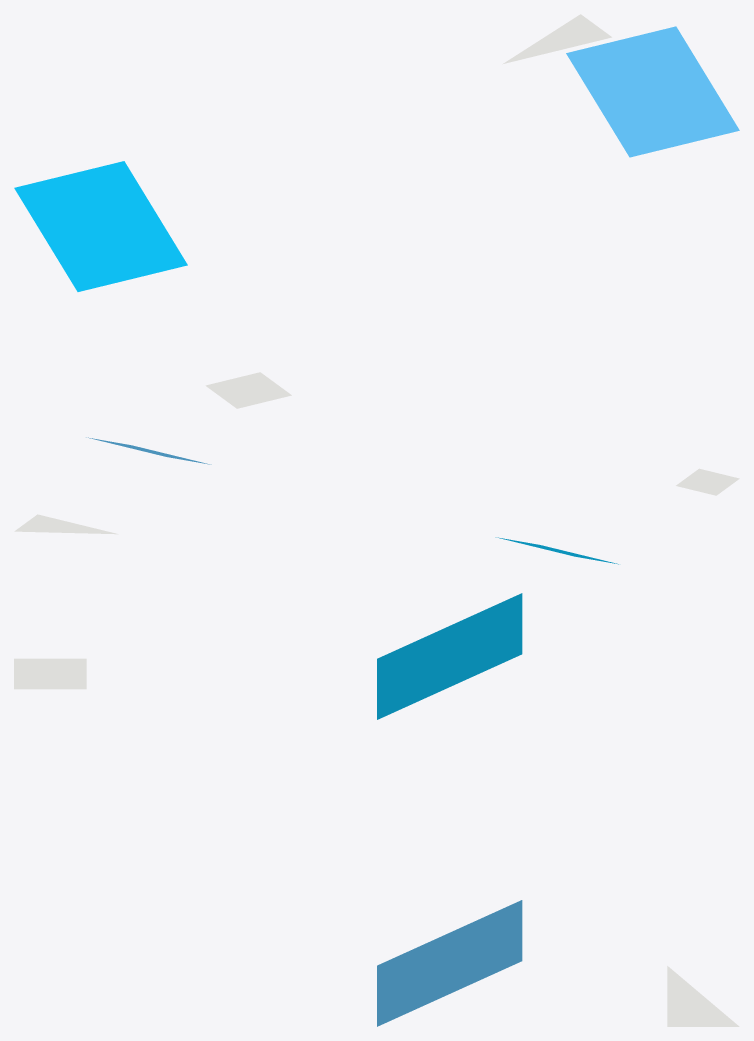
The model's file is classic.glb.
3 views of the same model, one above another, from view 1: azimuth 30°, elevation 25°; view 2: azimuth 150°, elevation 25°; view 3: azimuth 270°, elevation 25° (orthographic). The views are drawn at different scales.
Visible parts, largest first — view 1: Grupo 1, Grupo 0, Loose geometry; view 2: Grupo 1, Loose geometry, Grupo 0; view 3: Grupo 1, Grupo 0, Loose geometry.
Boxes of the visible parts, x1,y1,x2,y2 form: Grupo 1: [502, 14, 739, 157]; Grupo 0: [14, 161, 187, 291]; Loose geometry: [205, 372, 291, 408]; Grupo 1: [14, 437, 211, 534]; Loose geometry: [676, 468, 739, 495]; Grupo 0: [495, 537, 618, 564]; Grupo 1: [377, 900, 739, 1026]; Grupo 0: [377, 593, 522, 719]; Loose geometry: [14, 658, 86, 689].
Bounding box in the file's own units: 12 × 1 × 10.
